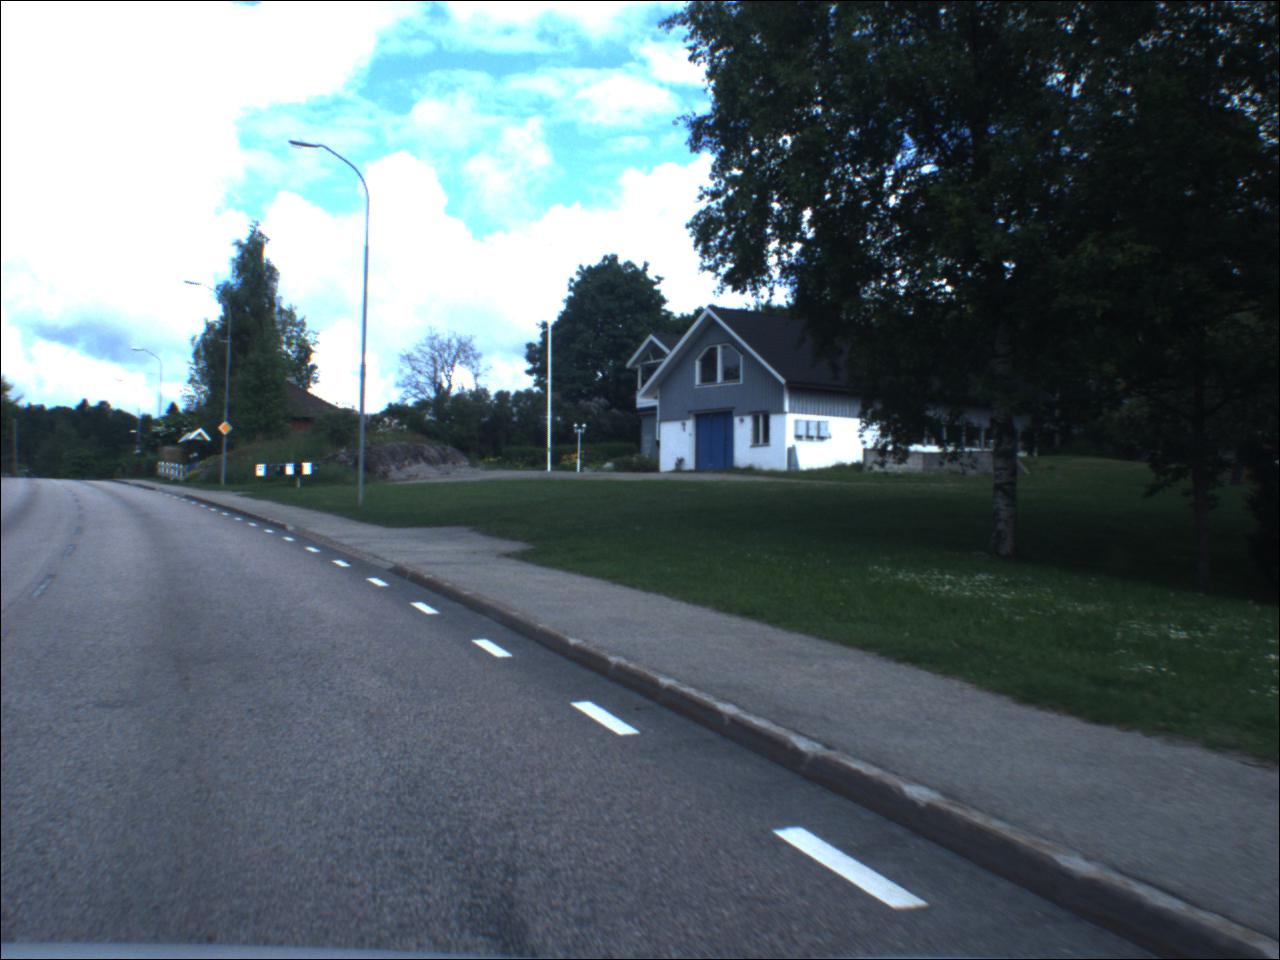PRIORITY_ROAD: (219, 421, 238, 440)
